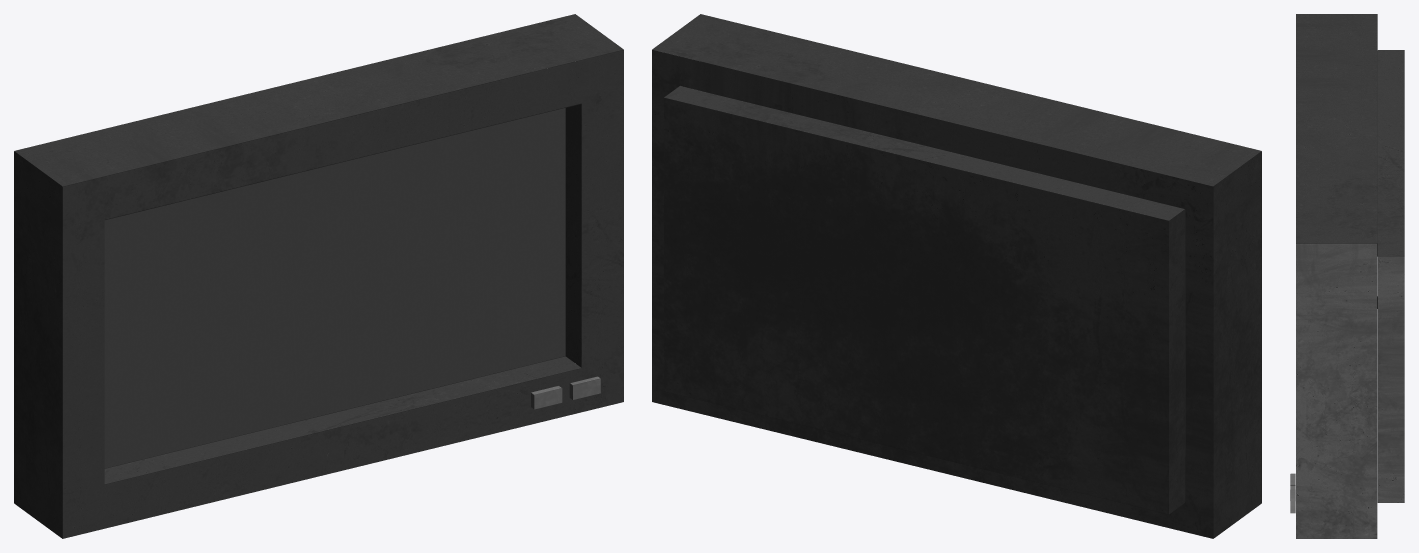
The picture shows the model from 3 angles, left to right: view 1: azimuth 30°, elevation 25°; view 2: azimuth 150°, elevation 25°; view 3: azimuth 270°, elevation 25°; orthographic projection. The views are drawn at different scales.
Parts seen in each view (by area): view 1: Wall_TV; view 2: Wall_TV; view 3: Wall_TV.
Boxes of the visible parts, box(x1,y1,x2,y2) form: Wall_TV: box(14, 14, 623, 538); Wall_TV: box(652, 14, 1261, 538); Wall_TV: box(1290, 14, 1404, 538).
Size of the model in its own units: 20 by 12 by 4.21.
1 material, 1 textured.
